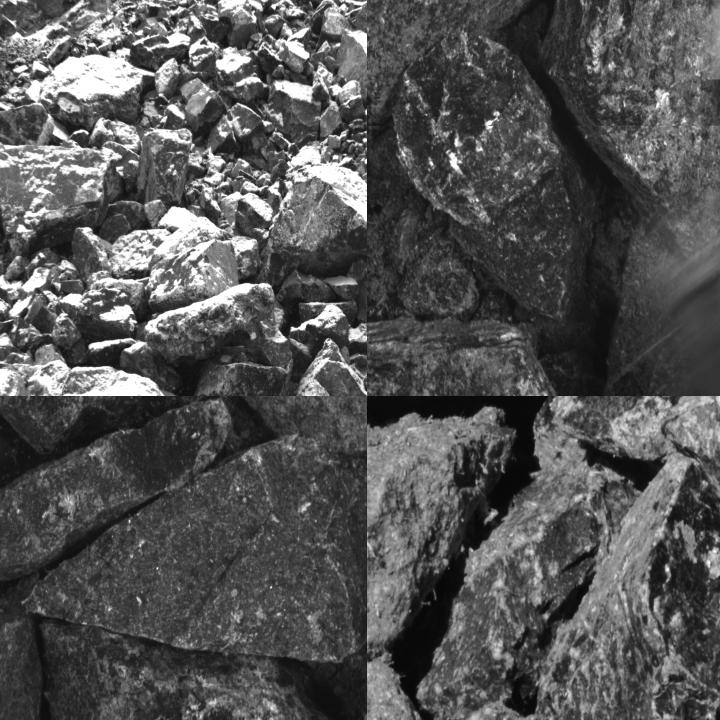stone: (20, 437, 366, 663), (416, 396, 638, 719), (391, 28, 598, 324), (518, 452, 719, 719), (543, 0, 719, 271), (367, 424, 519, 719), (0, 397, 234, 584), (367, 0, 575, 151), (36, 620, 334, 719), (367, 317, 590, 395), (0, 143, 123, 257), (0, 396, 224, 457), (260, 164, 366, 283), (138, 280, 275, 364), (38, 57, 155, 125), (0, 570, 46, 719), (147, 238, 236, 310), (289, 306, 349, 379), (136, 128, 191, 204), (266, 80, 320, 148), (305, 341, 366, 395), (197, 362, 288, 395), (209, 104, 266, 156), (214, 46, 266, 102), (446, 691, 550, 719), (109, 228, 166, 278), (75, 286, 136, 332), (276, 270, 337, 314), (336, 29, 366, 114), (180, 78, 226, 132), (129, 32, 189, 67), (71, 226, 111, 277), (314, 7, 353, 48), (234, 192, 272, 234), (348, 257, 366, 341), (231, 236, 264, 280), (188, 37, 222, 78), (337, 78, 366, 122), (152, 57, 180, 98), (276, 41, 310, 73), (323, 276, 361, 301), (345, 2, 366, 45), (289, 379, 339, 395), (320, 102, 342, 138), (312, 73, 328, 101)
